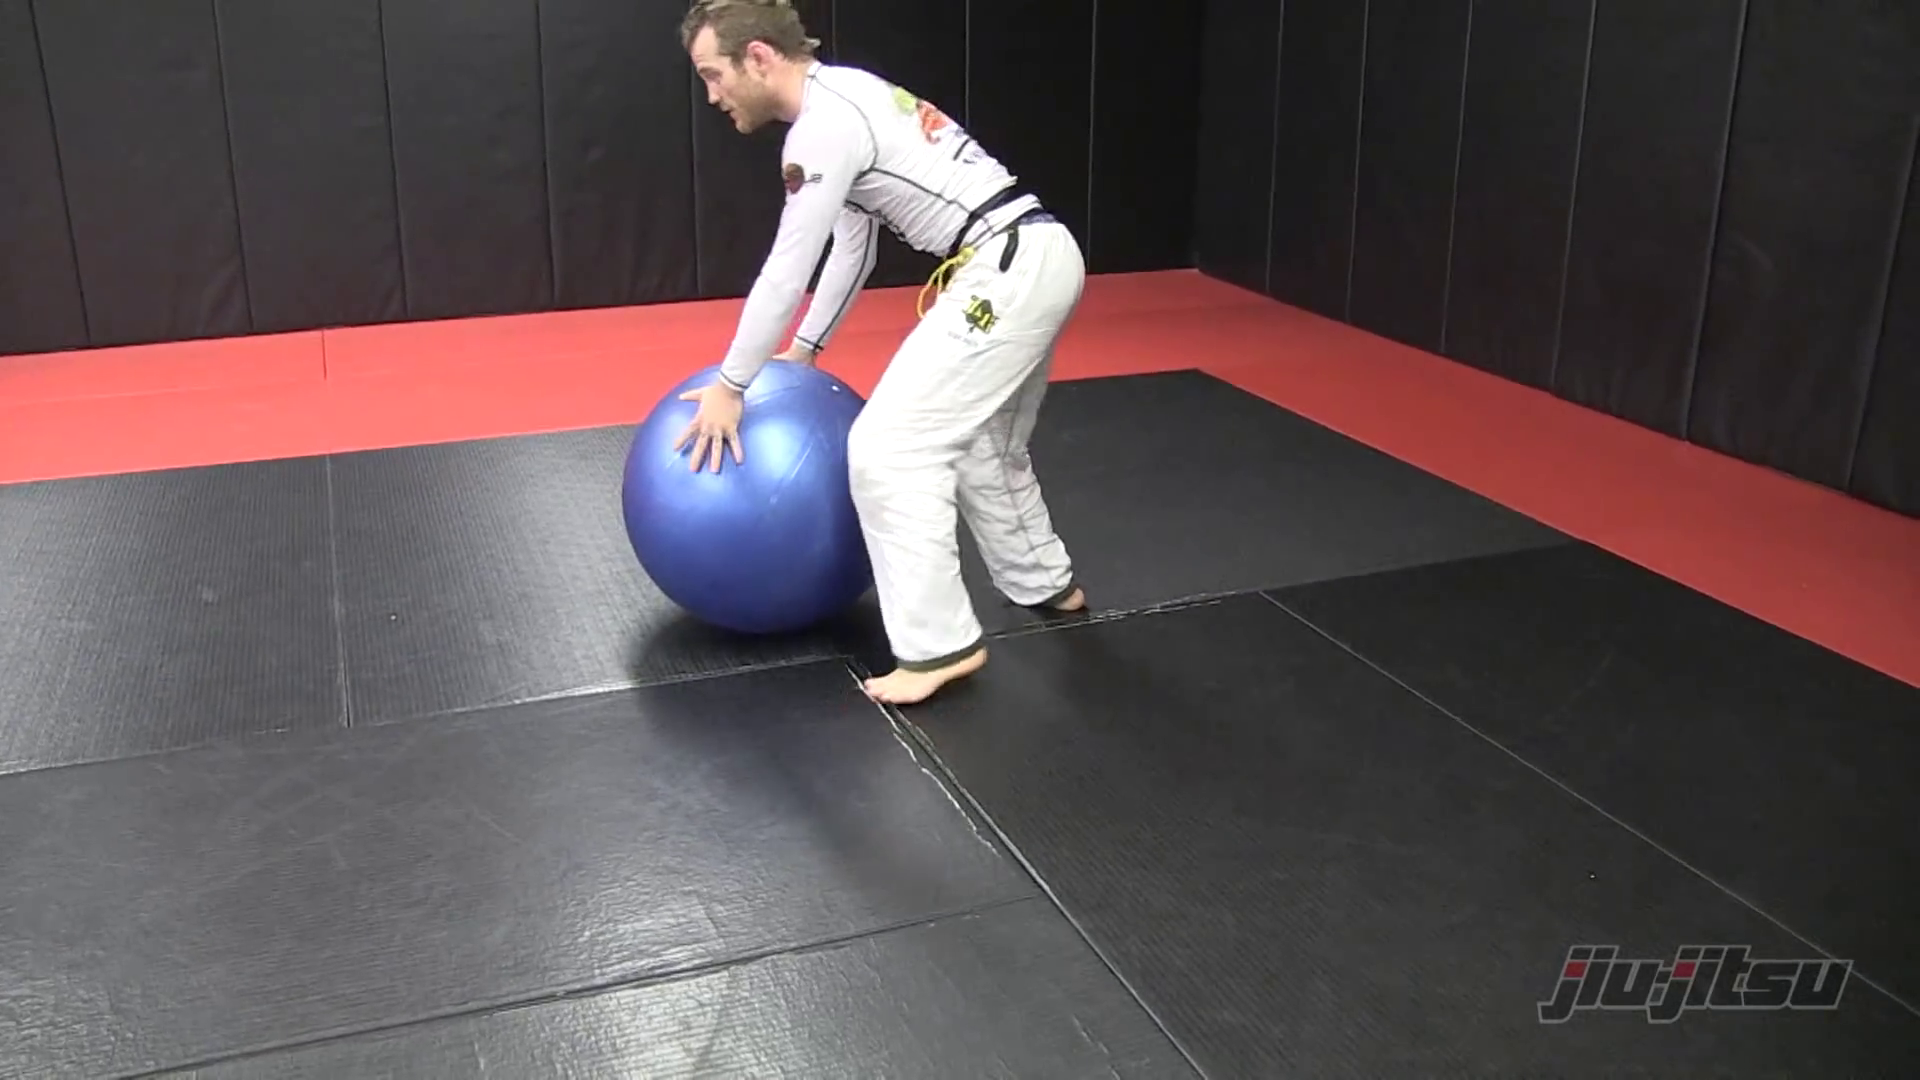yogaball: (615, 349, 903, 659)
